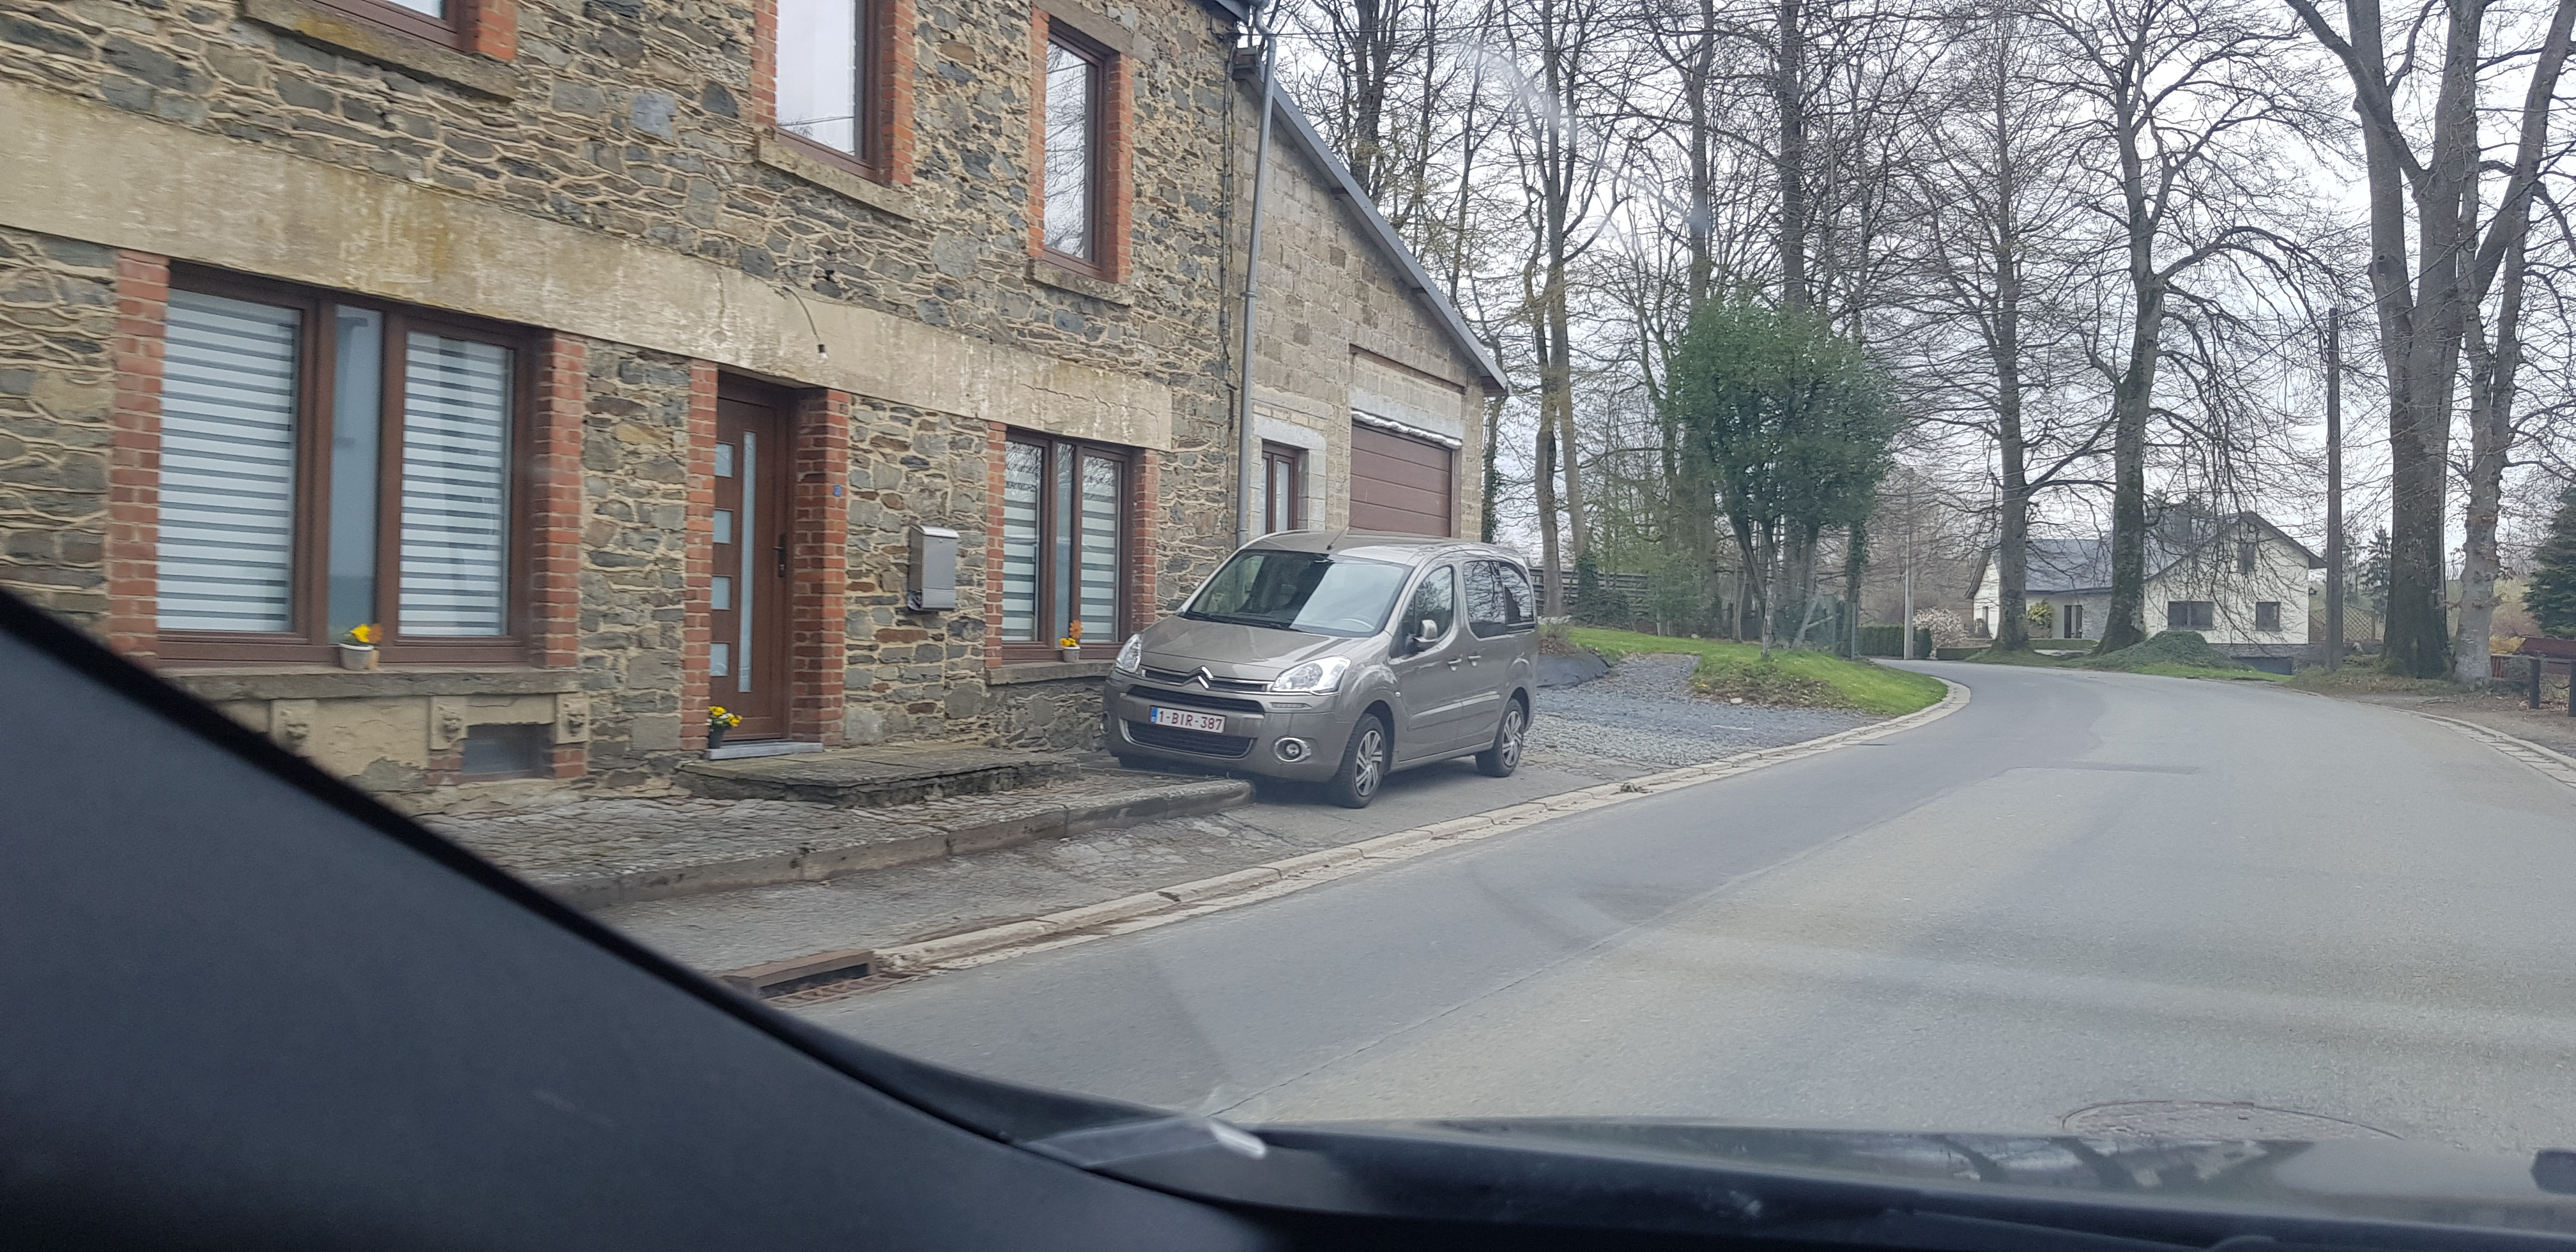licenceplate: (1148, 703, 1226, 735)
